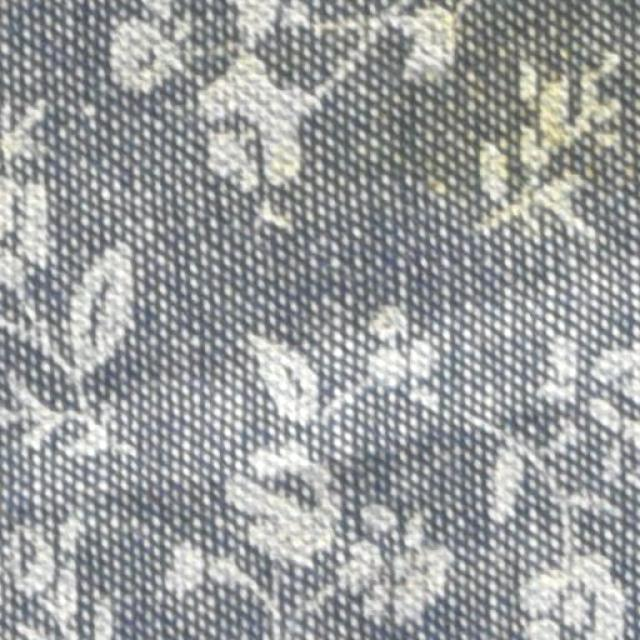Stain: (209, 3, 637, 251)
